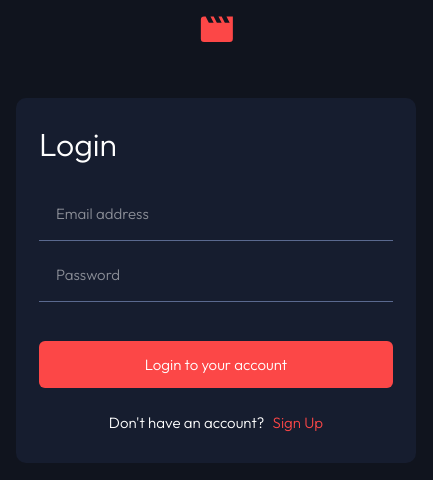
user login › invalid login, password empty
Type "someuser1919@gmail.com" into the label with test id "loginEmail".
click(216, 214); type("someuser1919@gmail.com")  # box [39,187,393,241]
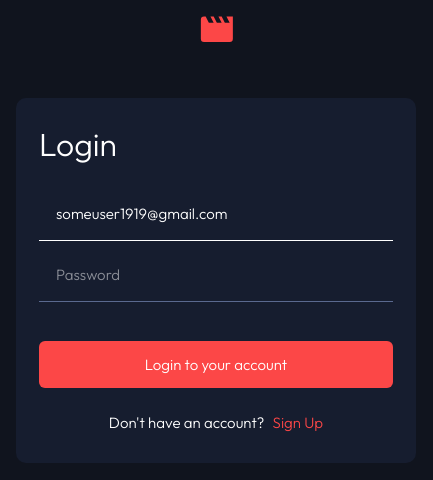
Focus the password field with placeholder "Password" at (216, 275), box [39,248,393,301]
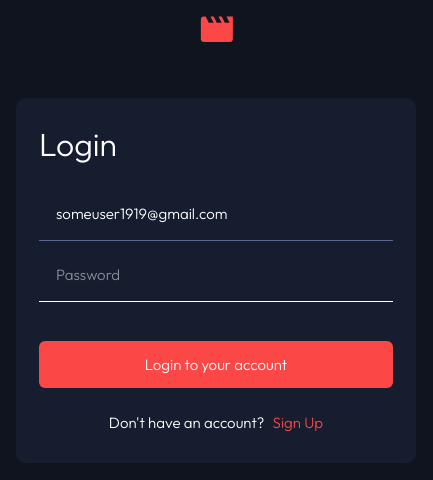
Focus the field at (216, 214), box [39,187,393,240]
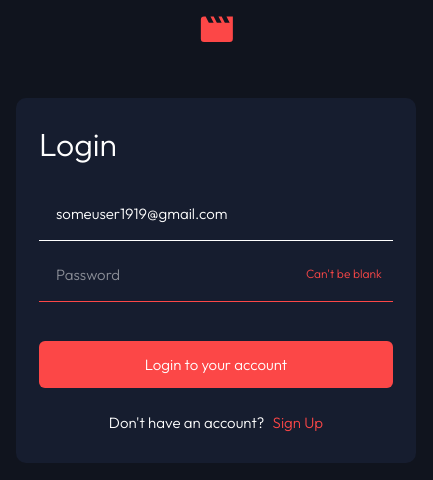
Expected: the text with test id "errorMessage" reads "Can't be blank", [306,266,382,281]
